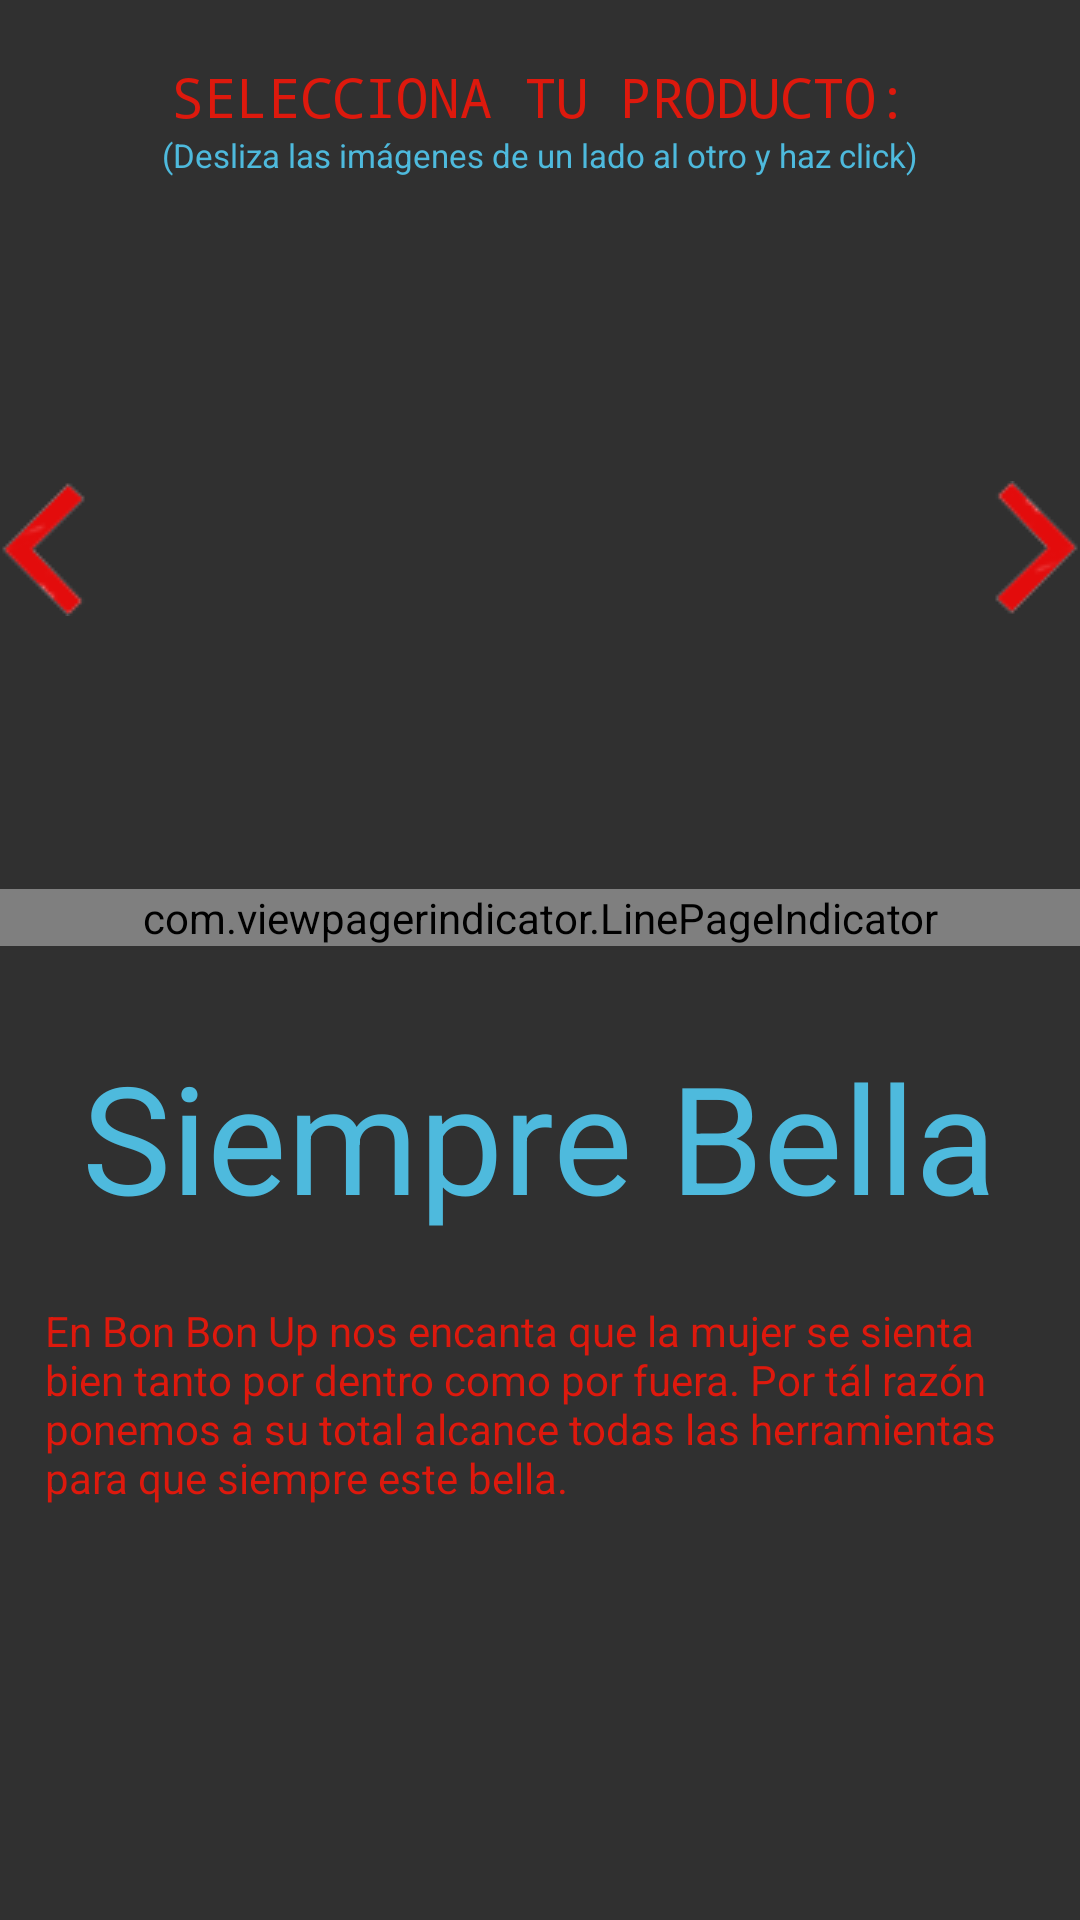

Icons on this 1080 x 1920 Android screen, each with the point to tap as (x=x, y=y):
arrow left: (x=43, y=549)
arrow right: (x=1036, y=547)
